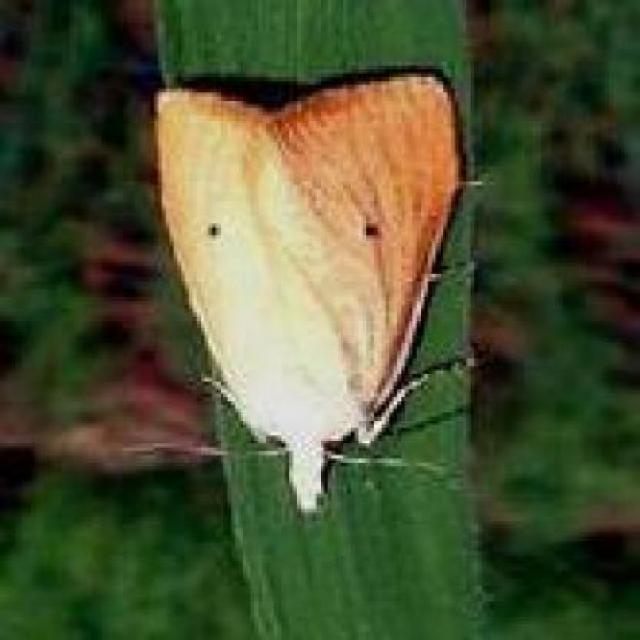stem-borer: (150, 60, 475, 521)
